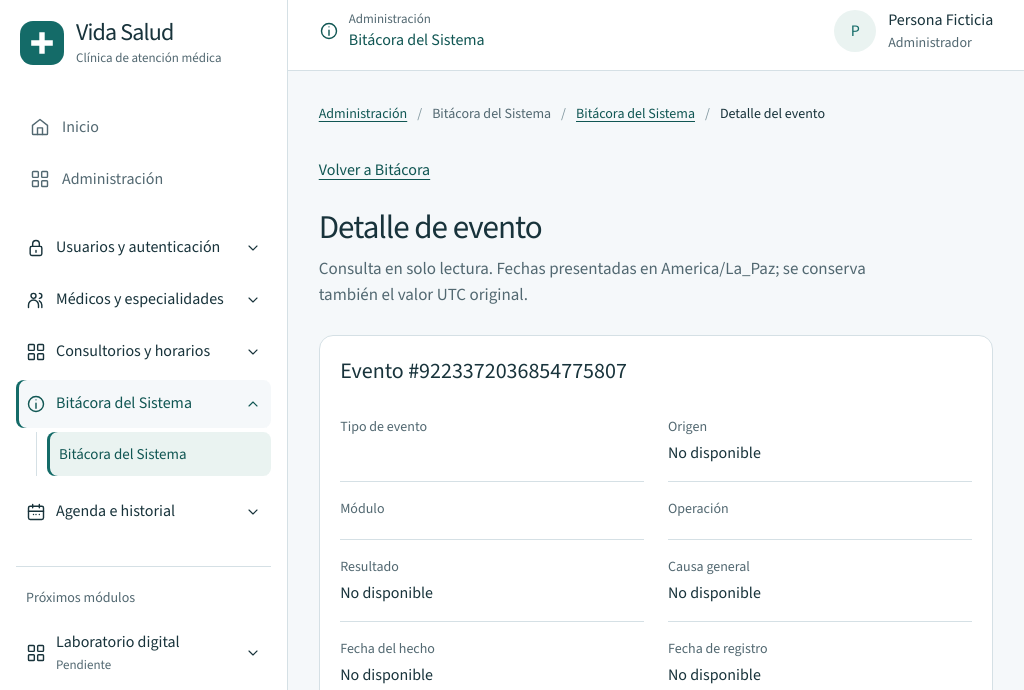
Test case: rutas y navegación CU-30 fase 1 › acceso directo al detalle y regreso al listado con el mismo menú activo
Expected: the heading "Detalle de evento" is shown, [319,205,542,249]
Click the link "Volver a Bitácora" at point(374, 170), box [319,159,430,180]
(page scrolled)
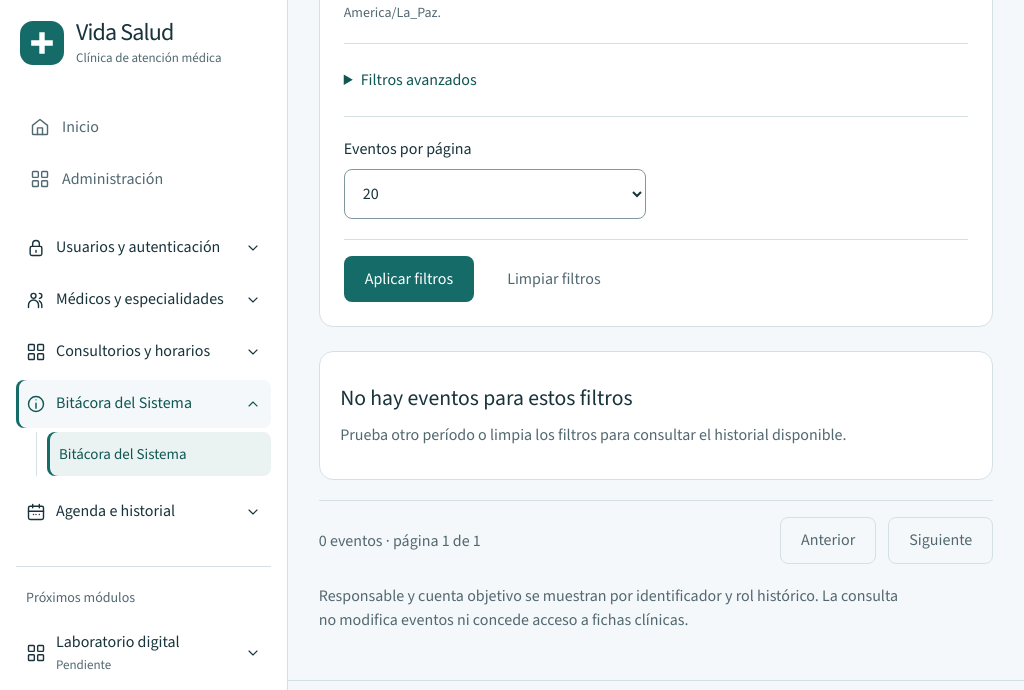
Now the heading "No hay eventos para estos filtros" is shown, box [340,383,632,412]
